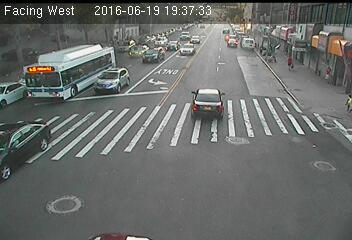neg: (228, 33, 241, 51), (25, 25, 38, 41)
pos: (321, 63, 338, 85), (283, 51, 299, 73)
